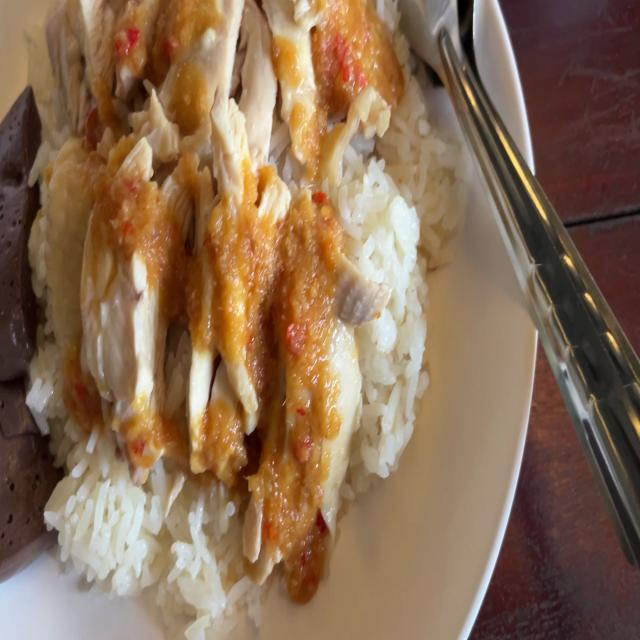chicken_rice: (52, 0, 369, 534)
noodle: (0, 80, 42, 376), (0, 372, 62, 560)
